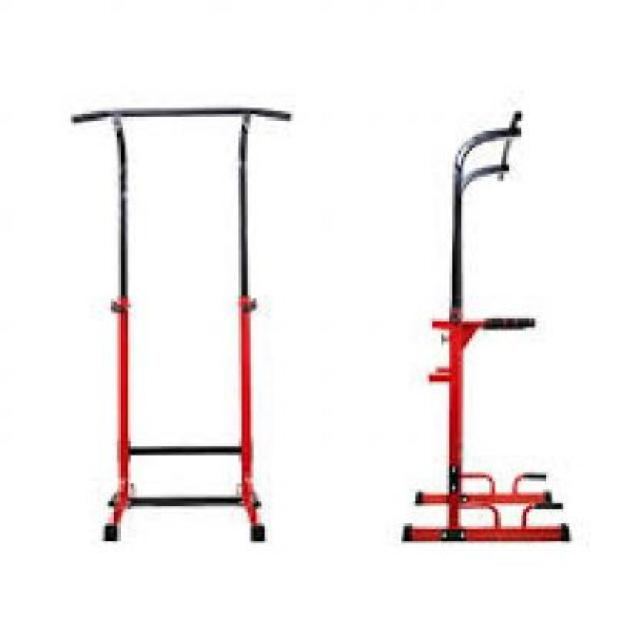chinning dipping: (69, 103, 294, 543), (398, 109, 572, 545)
